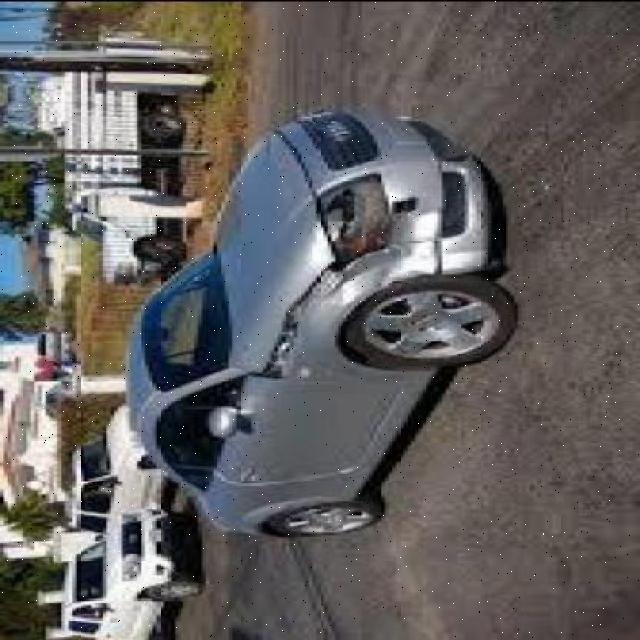damage: (246, 169, 444, 383)
